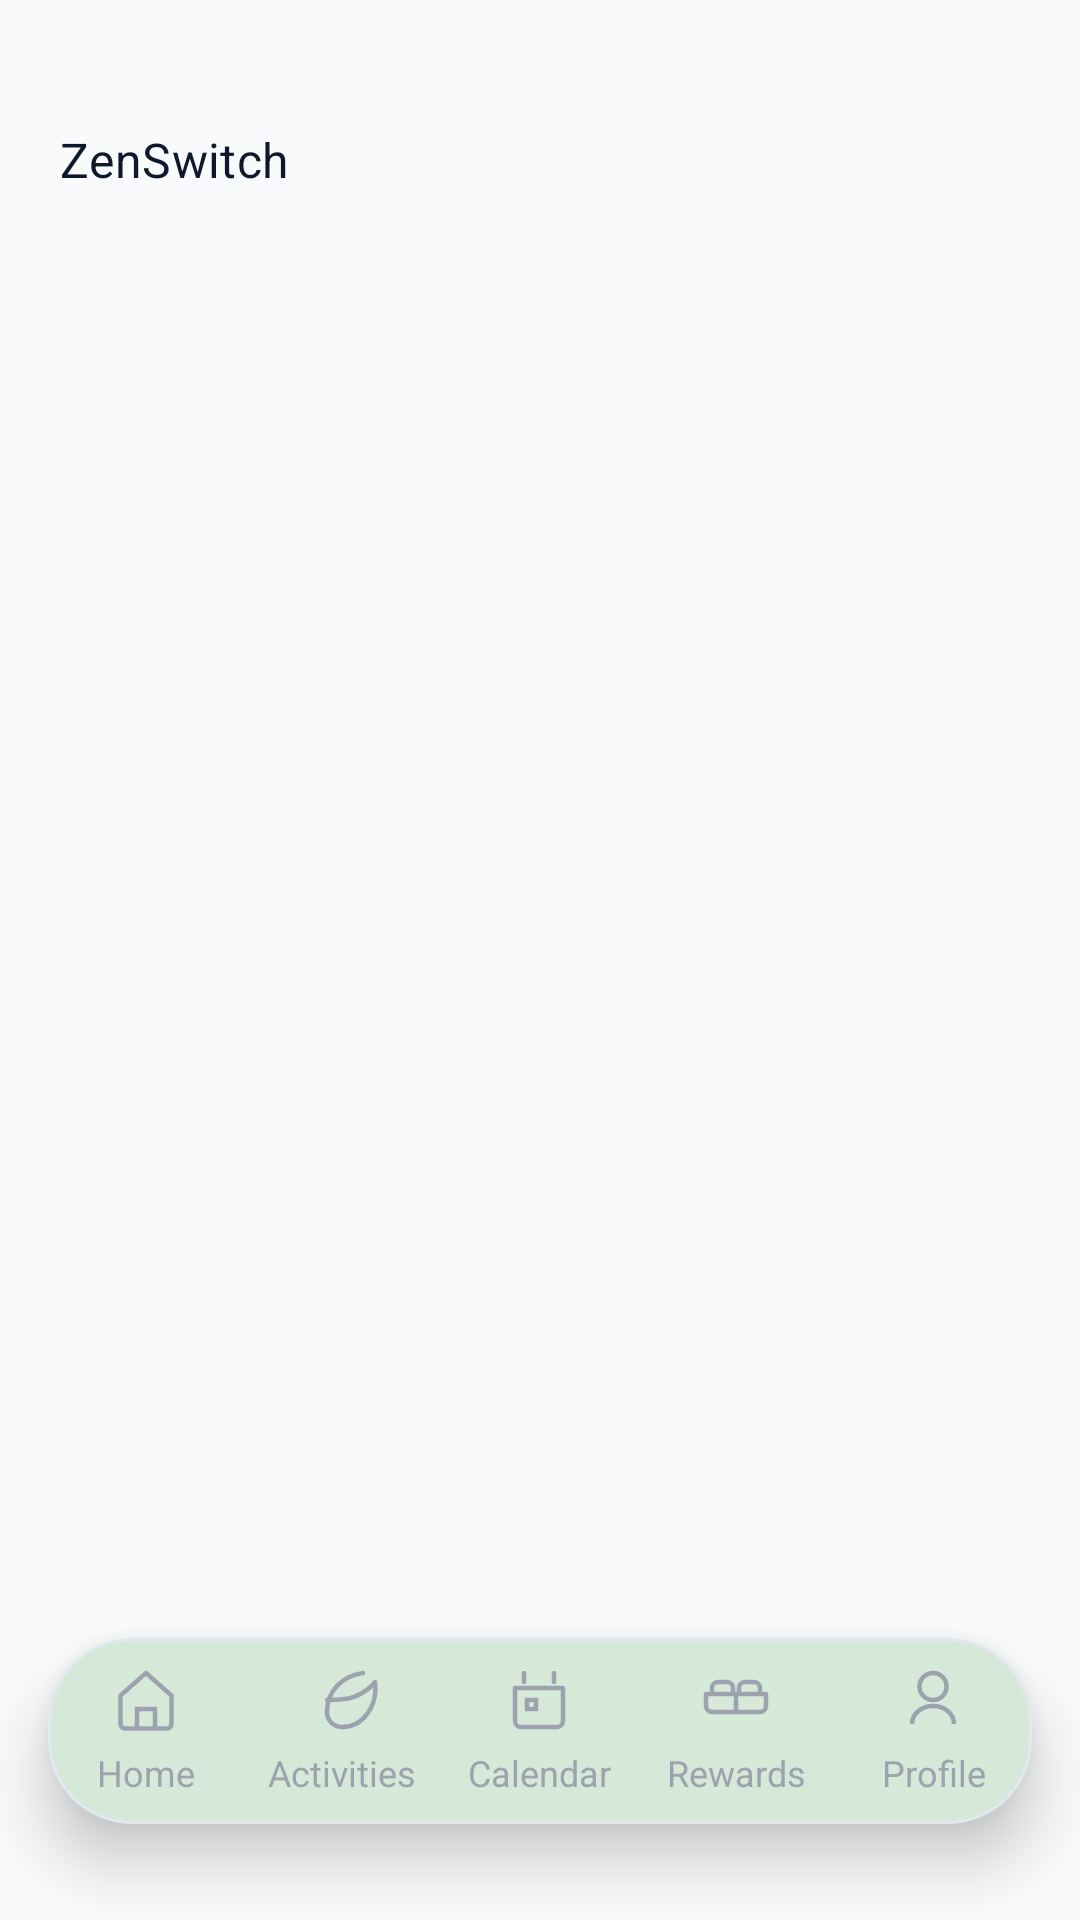

Screen size 1080px×1920px. Icon name, then its center in pixels as [x,y]:
leaf: [351,1700]
